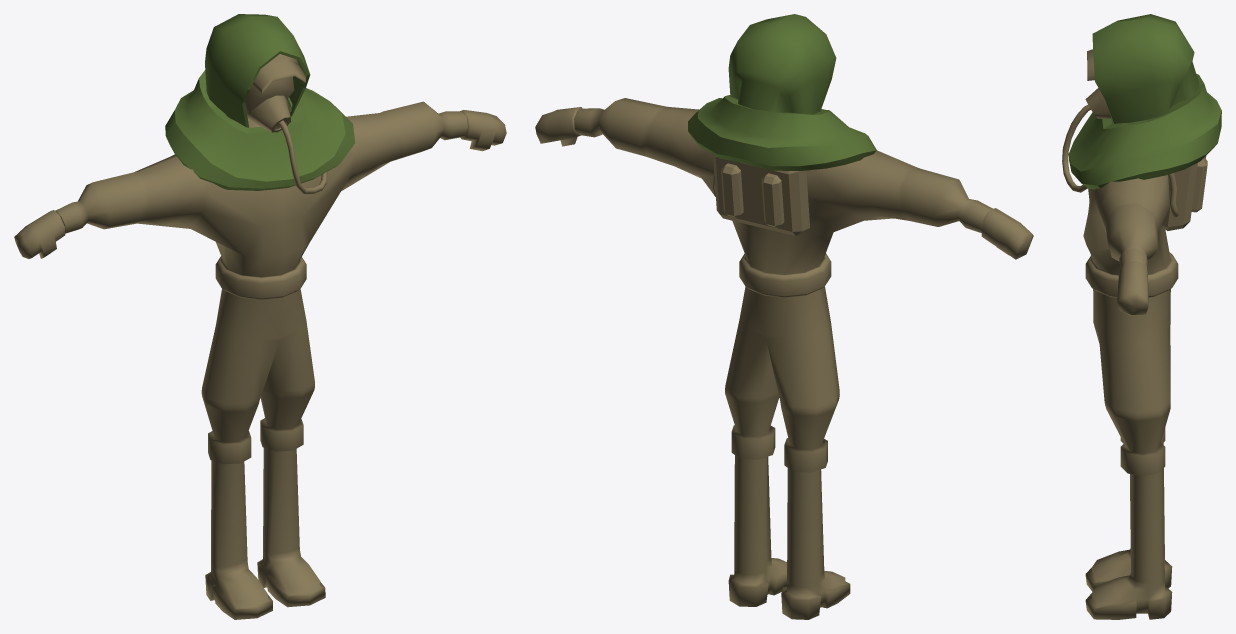
3 views of the same model, side by side, from view 1: azimuth 30°, elevation 25°; view 2: azimuth 150°, elevation 25°; view 3: azimuth 270°, elevation 25° (orthographic).
Parts seen in each view (by area): view 1: cuerpo1, capa, cabesa1; view 2: cuerpo1, capa; view 3: cuerpo1, capa, cabesa1.
Boxes of the visible parts, <box> form: cuerpo1: <box>14,101,506,619</box>; capa: <box>165,14,355,190</box>; cabesa1: <box>245,54,327,193</box>; cuerpo1: <box>535,98,1033,619</box>; capa: <box>688,14,876,170</box>; cuerpo1: <box>1083,156,1207,619</box>; capa: <box>1068,14,1221,189</box>; cabesa1: <box>1062,49,1178,217</box>.
Bounding box in the file's own units: 1.65 × 1.88 × 0.4689.
